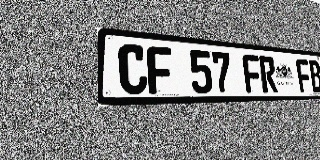5: (189, 49, 214, 94)
7: (210, 51, 233, 93)
B: (308, 60, 320, 92)
C: (118, 43, 148, 94)
F: (146, 46, 174, 94), (242, 54, 263, 93), (295, 59, 312, 92)
R: (258, 55, 278, 93)
